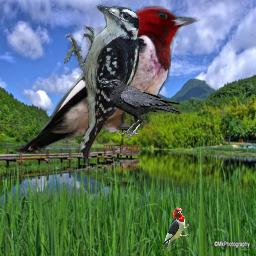Crow: (101, 79, 182, 139)
Woodpecker: (8, 4, 204, 154), (64, 3, 149, 163), (161, 207, 189, 250)
